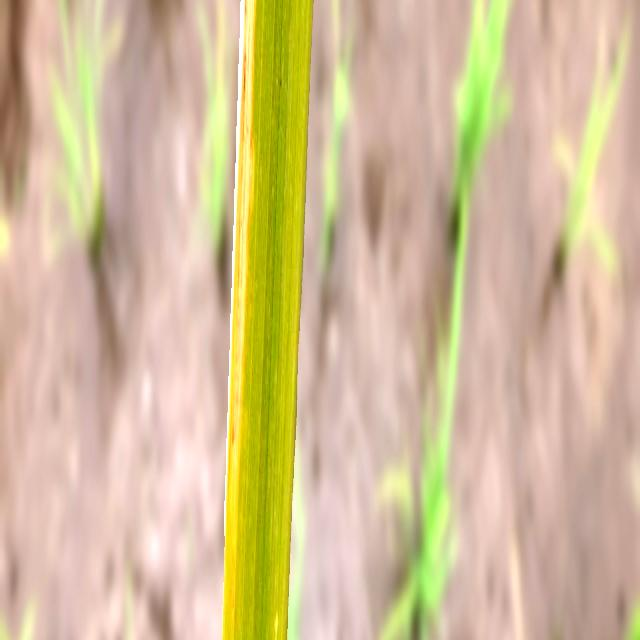BLS: (230, 0, 255, 619)
